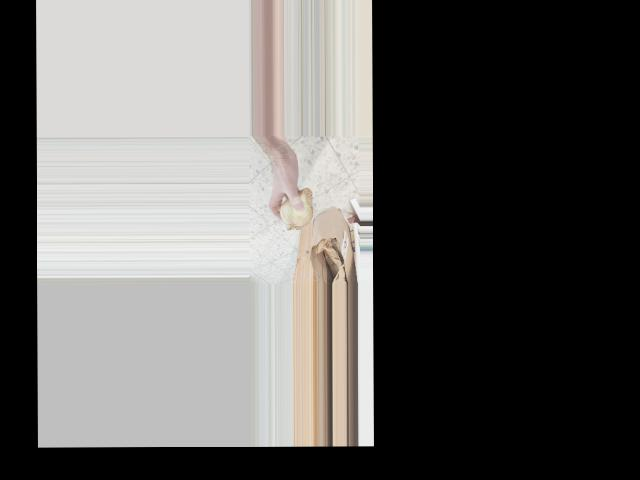onion: (276, 186, 315, 230)
